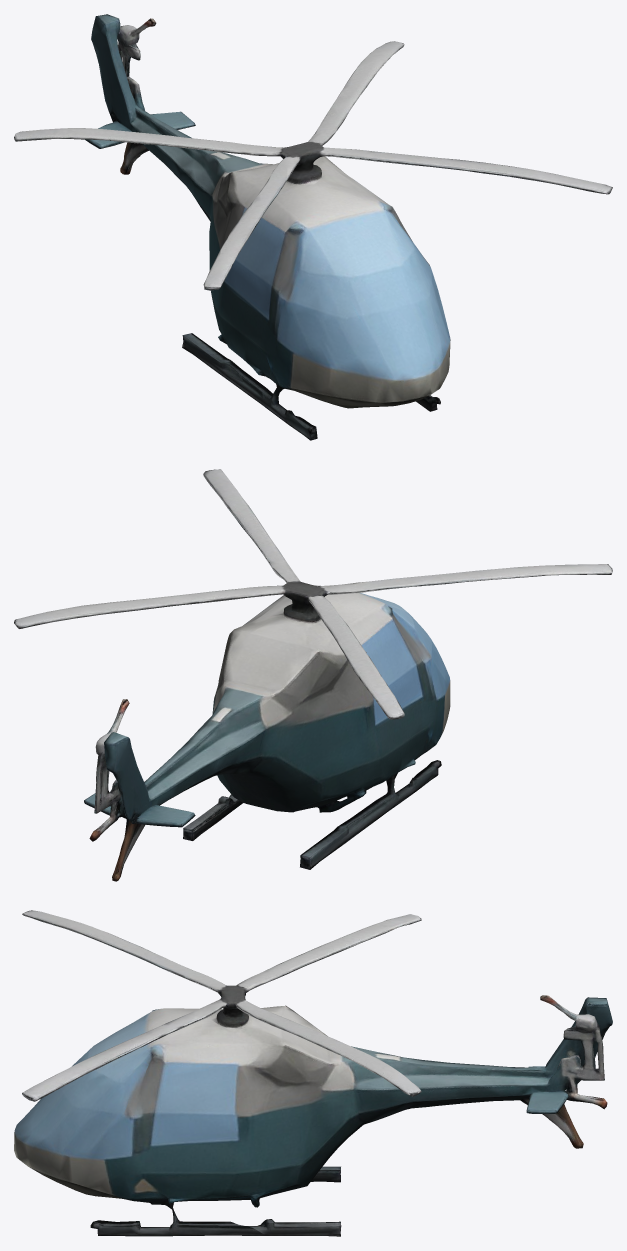
File: helicopter.glb
3 renders of one model, top to bottom at view 1: azimuth 30°, elevation 25°; view 2: azimuth 150°, elevation 25°; view 3: azimuth 270°, elevation 25°, orthographic. The views are drawn at different scales.
Parts seen in each view (by area): view 1: helicopter; view 2: helicopter; view 3: helicopter.
Boxes of the visible parts, x1,y1,x2,y2 form: helicopter: (14, 14, 612, 440); helicopter: (14, 469, 612, 881); helicopter: (14, 910, 612, 1236).
Bounding box in the file's own units: 0.745 × 0.4022 × 0.9991.
Materials: 1 (1 with a texture image).
